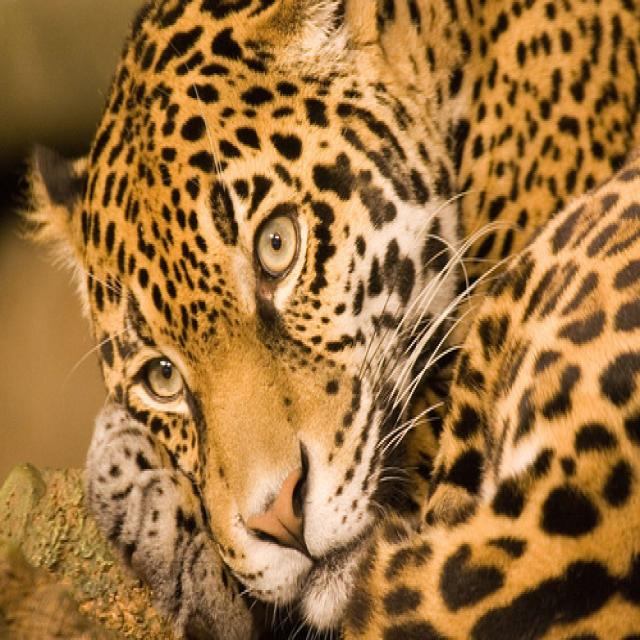Leopard: (14, 0, 638, 636)
